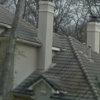Chimney: (82, 14, 100, 63)
